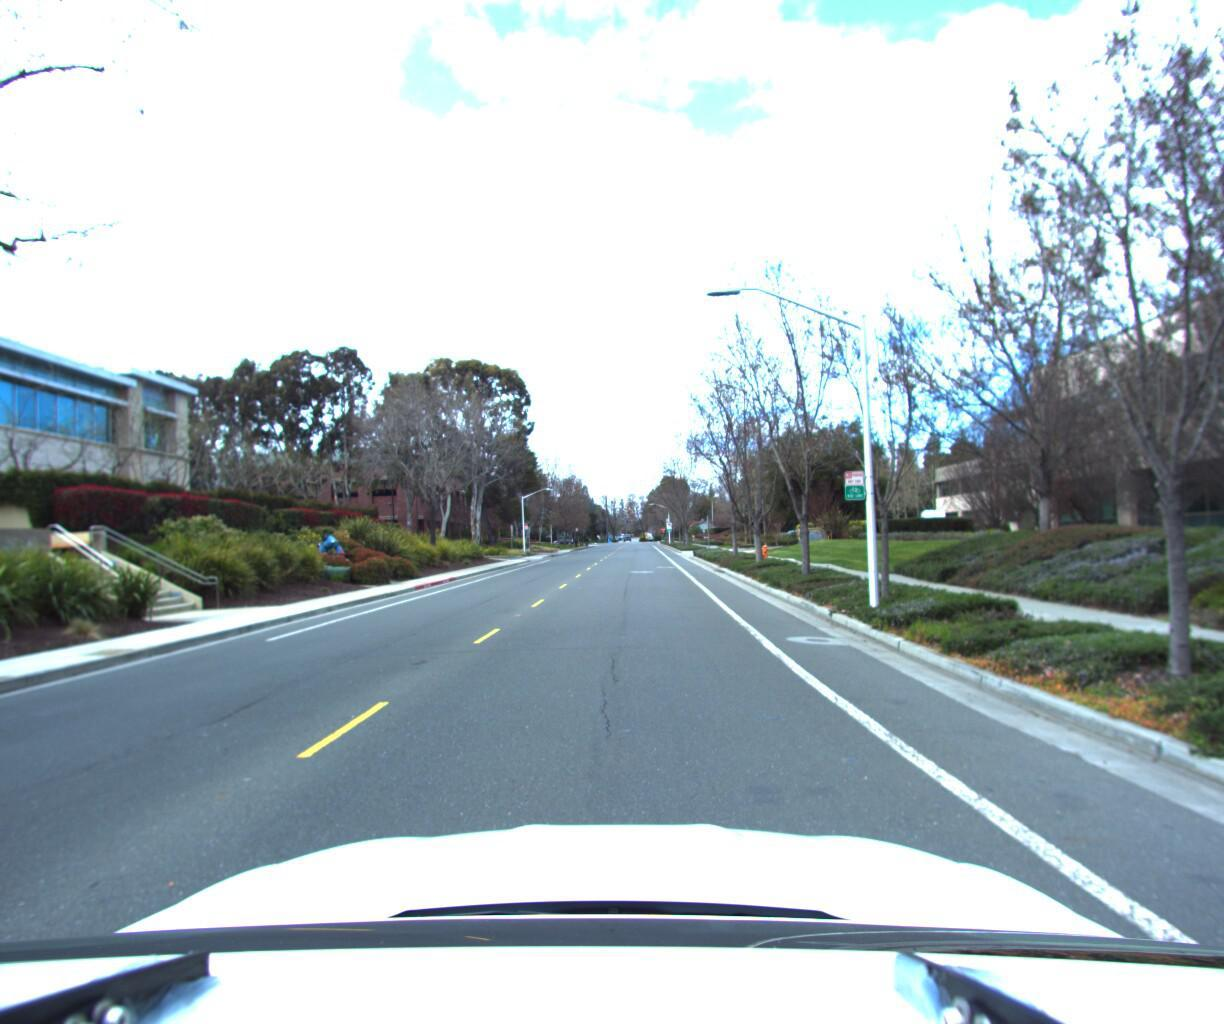car: (915, 504, 946, 539)
